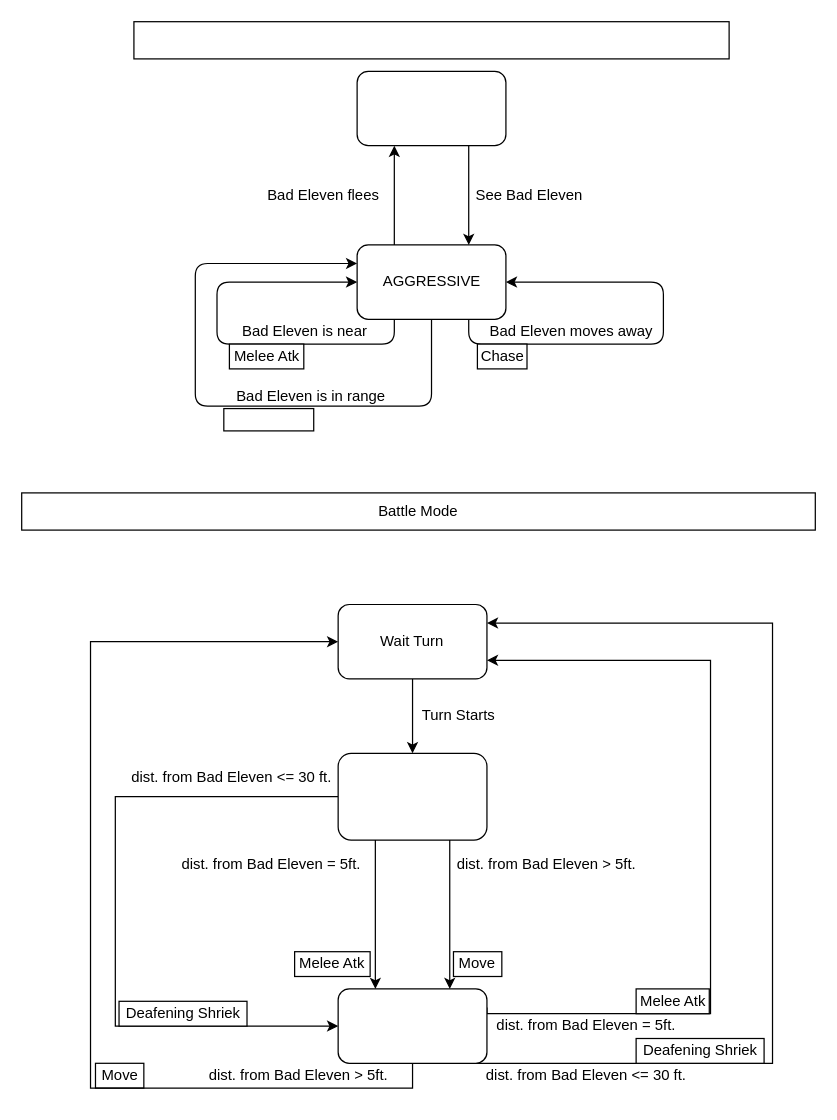
Image size: 837x1120. Some labels were removed from this diagram. Each missing label, with the centre of its shape:
Action One: (412,796)
Action Two: (412,1025)
Free Roaming: (431,39)
IDLE: (431,108)
Range Atk: (268,419)
